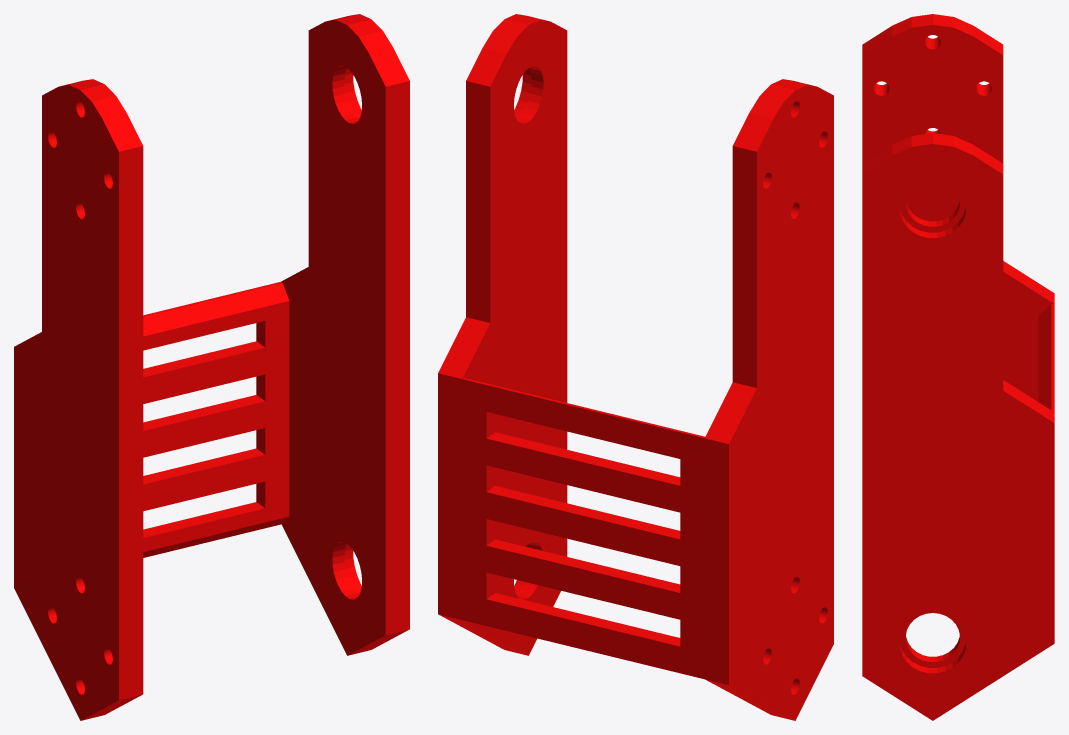
Rendered from Left_upper_leg.dae.
3 renders of one model, left to right at view 1: azimuth 30°, elevation 25°; view 2: azimuth 150°, elevation 25°; view 3: azimuth 270°, elevation 25°, orthographic. The views are drawn at different scales.
Visible parts, largest first — view 1: Left_upper_leg; view 2: Left_upper_leg; view 3: Left_upper_leg.
Part boxes in pixels (box(x1,y1,x2,y2)): Left_upper_leg: box(14, 14, 409, 720); Left_upper_leg: box(438, 14, 833, 720); Left_upper_leg: box(862, 14, 1054, 720).
Bounding box in the file's own units: 0.048 × 0.03 × 0.0994.
